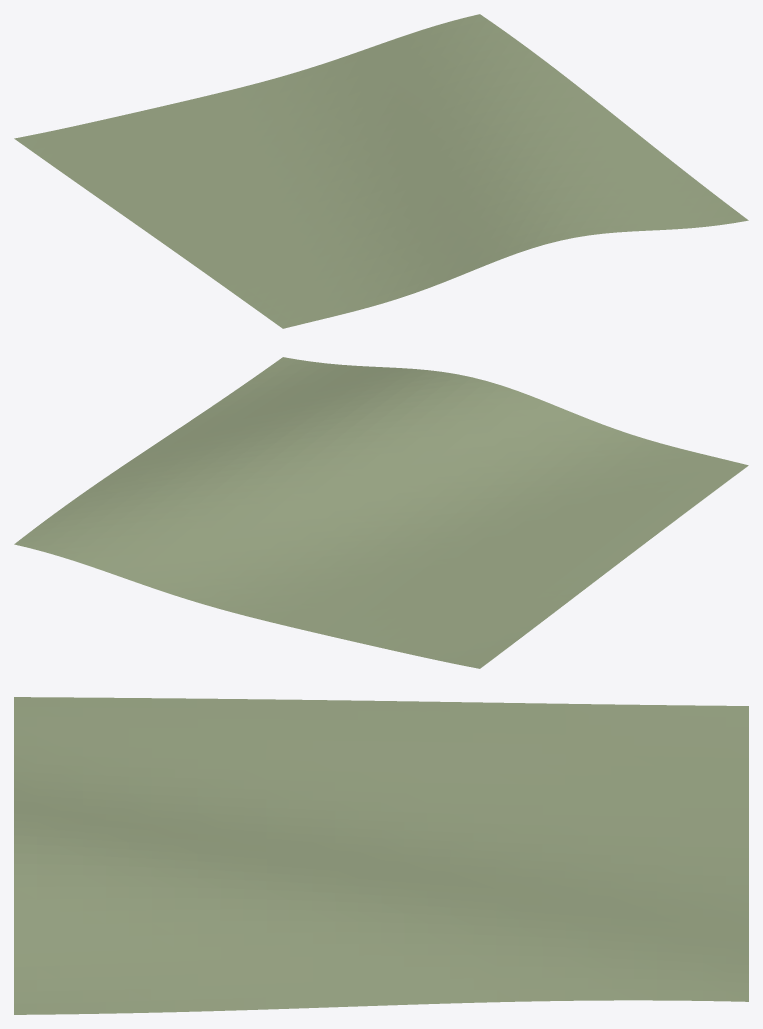
File: desert-5-2.glb
The picture shows the model from 3 angles, top to bottom: view 1: azimuth 30°, elevation 25°; view 2: azimuth 150°, elevation 25°; view 3: azimuth 270°, elevation 25°; orthographic projection. The views are drawn at different scales.
Parts seen in each view (by area): view 1: desert-5-2; view 2: desert-5-2; view 3: desert-5-2.
Boxes of the visible parts, <box> form: desert-5-2: <box>14,14,748,328</box>; desert-5-2: <box>14,357,748,668</box>; desert-5-2: <box>14,697,748,1014</box>.
Bounding box in the file's own units: 512 × 33.08 × 512.
